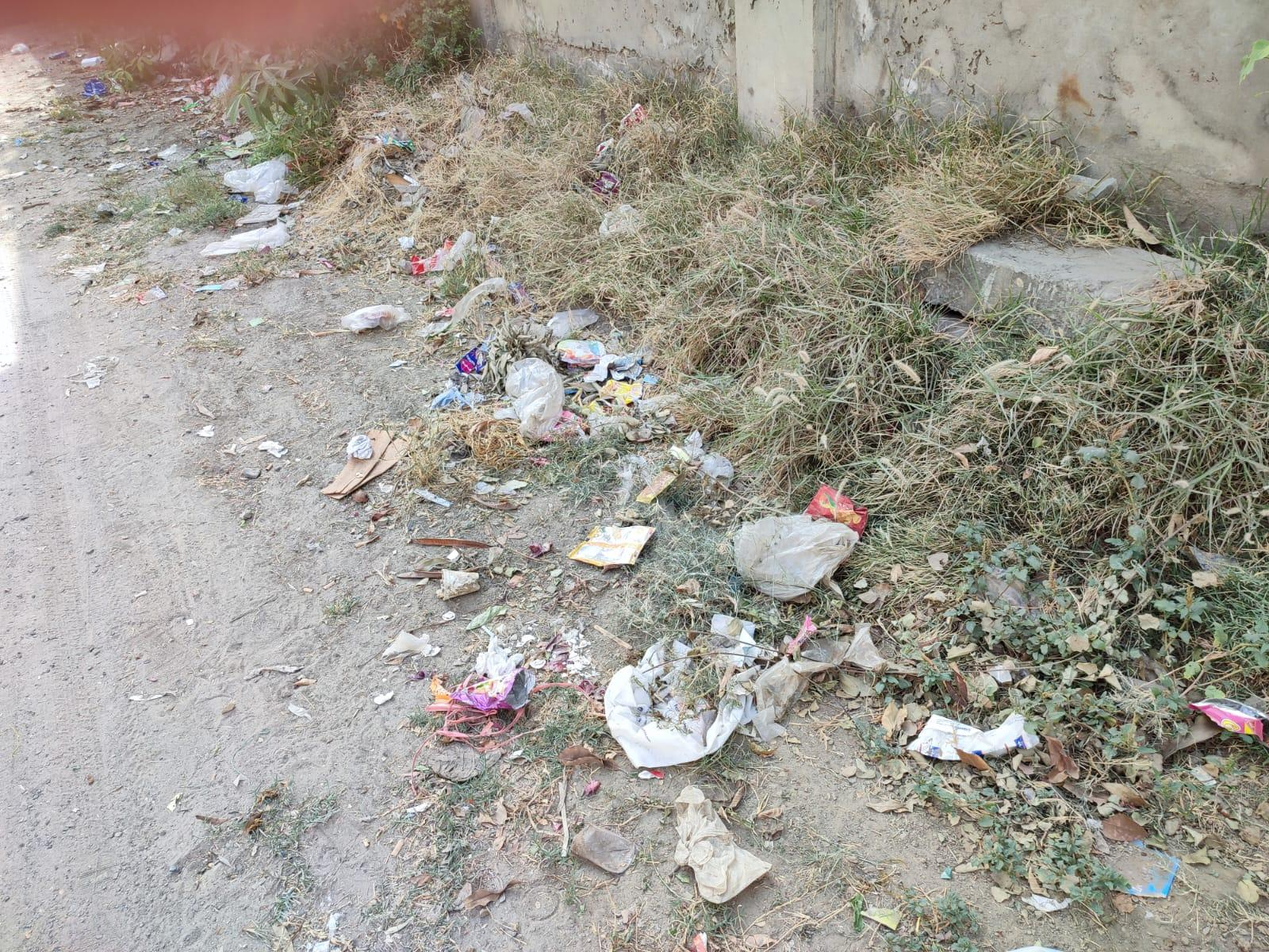garbage: (385, 302, 1011, 827)
